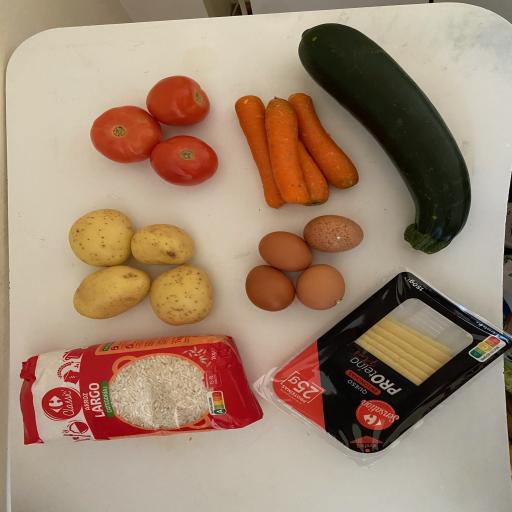carrot: (257, 88, 373, 195), (222, 83, 311, 217), (245, 117, 358, 215), (253, 88, 326, 211)
cheese: (254, 266, 512, 468)
courgette: (291, 22, 483, 270)
egg: (284, 252, 366, 325), (242, 220, 321, 284), (234, 256, 316, 316), (294, 208, 384, 260)
potato: (127, 228, 227, 338), (94, 200, 214, 279), (52, 204, 144, 284), (60, 256, 152, 327)
rice: (6, 321, 280, 459)
tomato: (70, 90, 170, 172), (128, 118, 228, 198), (126, 59, 218, 136)
